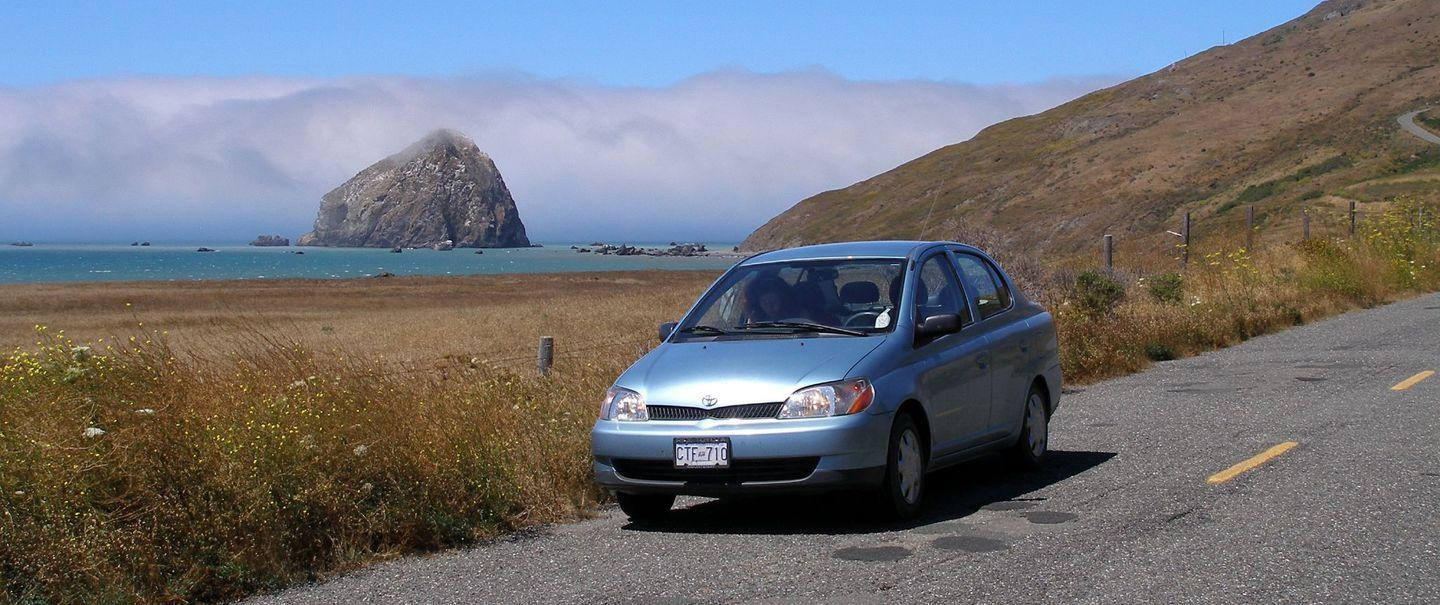car: (521, 208, 1125, 550)
